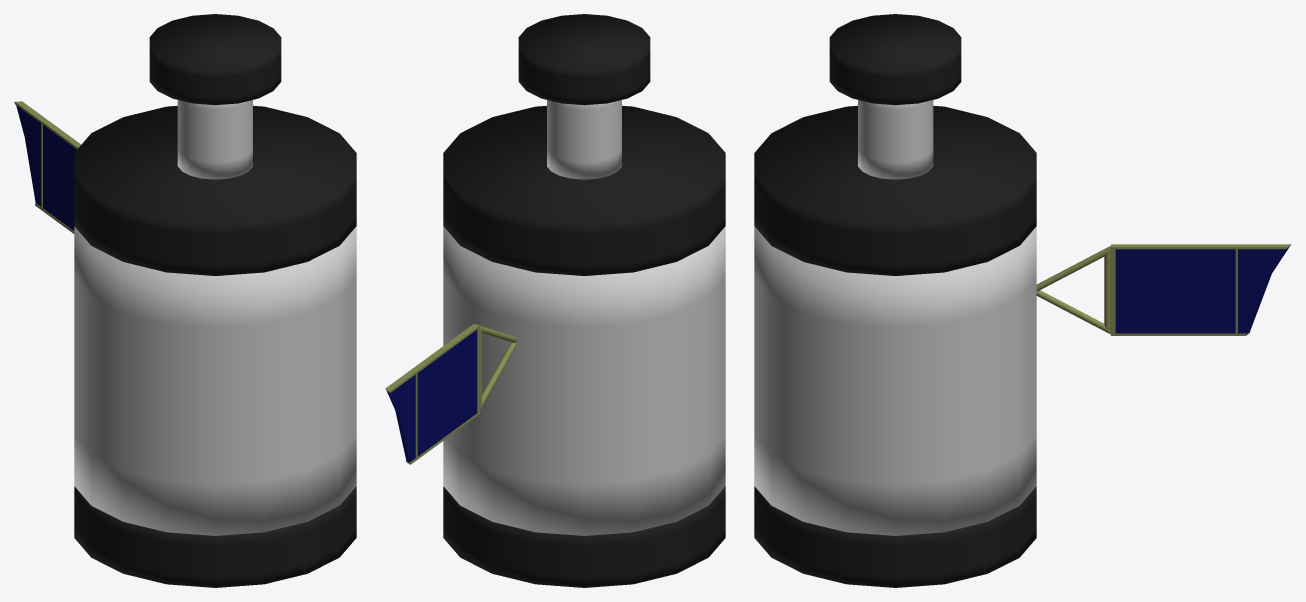
3 renders of one model, left to right at view 1: azimuth 30°, elevation 25°; view 2: azimuth 150°, elevation 25°; view 3: azimuth 270°, elevation 25°, orthographic.
Parts seen in each view (by area): view 1: Cylinder001, Cylinder003, Box005, Loft005; view 2: Cylinder001, Cylinder003, Box005, Loft005; view 3: Cylinder001, Cylinder003, Box005, Loft005.
Boxes of the visible parts, bbox=[...] form: Cylinder001: bbox=[74, 100, 356, 535]; Cylinder003: bbox=[74, 14, 356, 587]; Box005: bbox=[16, 105, 76, 230]; Loft005: bbox=[14, 101, 81, 233]; Cylinder001: bbox=[443, 100, 725, 535]; Cylinder003: bbox=[443, 14, 725, 587]; Box005: bbox=[387, 330, 476, 462]; Loft005: bbox=[385, 324, 516, 464]; Cylinder001: bbox=[754, 100, 1036, 535]; Cylinder003: bbox=[754, 14, 1036, 587]; Box005: bbox=[1115, 247, 1288, 333]; Loft005: bbox=[1036, 244, 1291, 335].
Bounding box in the file's own units: 23.62 × 44.09 × 44.25.
